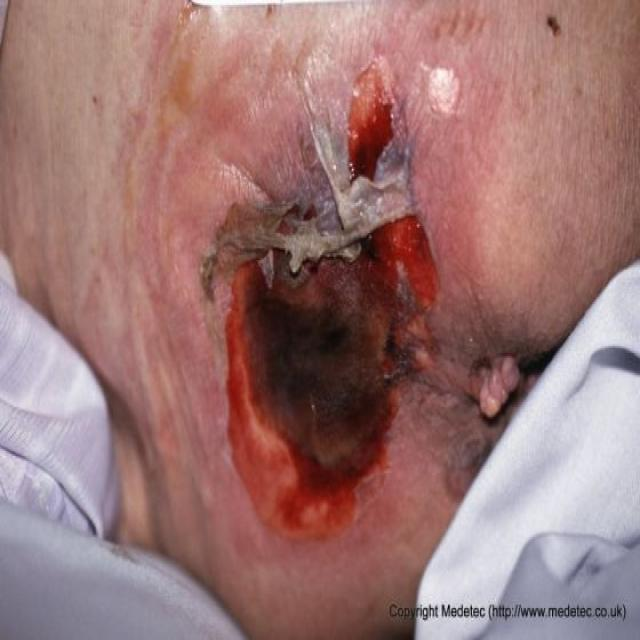Unstageable: (203, 63, 444, 546)
